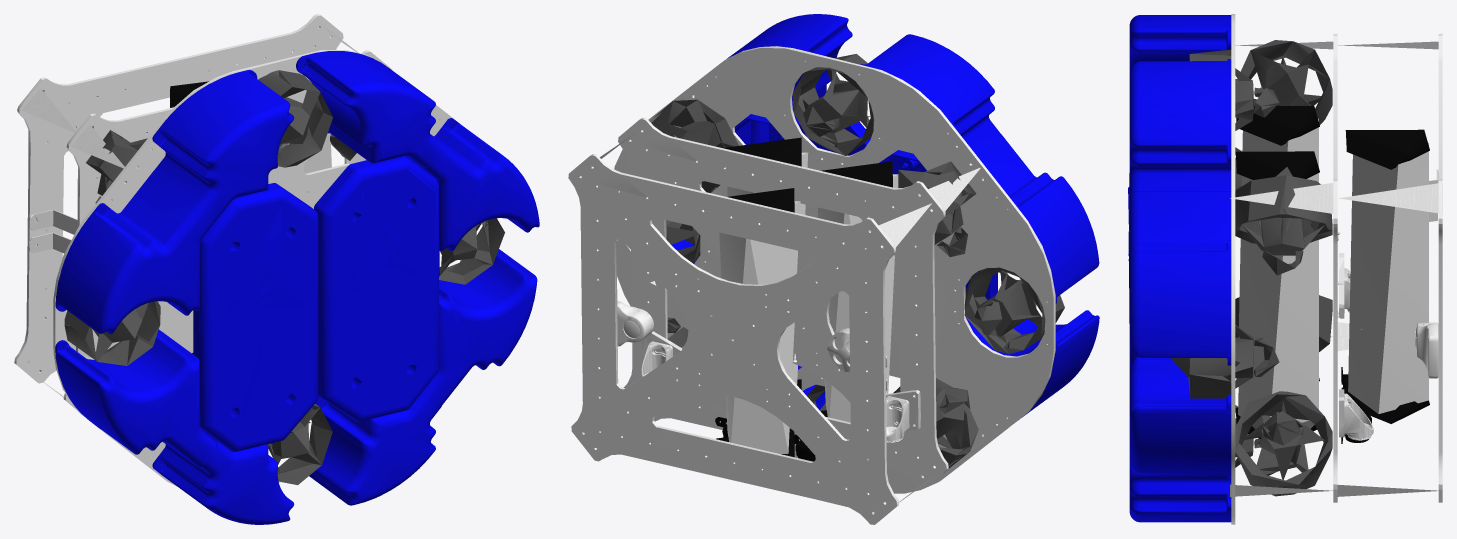
The model's file is cirtesub_v2_alpha.glb.
3 views of the same model, side by side, from view 1: azimuth 30°, elevation 25°; view 2: azimuth 150°, elevation 25°; view 3: azimuth 270°, elevation 25° (orthographic). The views are drawn at different scales.
Visible parts, largest first — view 1: Part 1.005, Part 1-Mirrored-Mirrored.002, Part_1.020, Part_2.001, Part 2-Mirrored-Mirrored.002, Part_1-Mirrored.003, Part_2-Mirrored.003, Part 2-Mirrored.005, Part 1-Mirrored.007, Part 2.005, Part 1.063, Part 2-Mirrored.007 (+36 smaller); view 2: Part 1.063, Part 1.059, Part 1.005, Part 1.044, Part 1.001, Part 1.004, Part 1-Mirrored-Mirrored.002, Cylinder.012, Part 2-Mirrored-Mirrored.002, duct_left_up_rear.011, duct_left_up_rear.014, Cylinder.007 (+25 smaller); view 3: Cylinder.012, Part 2-Mirrored.005, Part 1-Mirrored.005, Cylinder.006, Part 1.066, Part 1-Mirrored.003, duct_left_up_rear.005, duct_left_up_rear.009, Part 2.005, Part 1.003, duct_left_up_rear.013, Part 2-Mirrored-Mirrored.002 (+32 smaller).
Boxes of the visible parts, x1=… form: Part 1.005: x1=16, y1=14, x2=343, y2=371; Part 1-Mirrored-Mirrored.002: x1=55, y1=170, x2=217, y2=334; Part_1.020: x1=318, y1=281, x2=434, y2=415; Part_2.001: x1=314, y1=156, x2=439, y2=305; Part 2-Mirrored-Mirrored.002: x1=152, y1=70, x2=294, y2=217; Part_1-Mirrored.003: x1=193, y1=308, x2=318, y2=445; Part_2-Mirrored.003: x1=193, y1=183, x2=313, y2=334; Part 2-Mirrored.005: x1=296, y1=51, x2=441, y2=167; Part 1-Mirrored.007: x1=55, y1=330, x2=216, y2=467; Part 2.005: x1=309, y1=395, x2=441, y2=505; Part 1.063: x1=53, y1=50, x2=458, y2=485; Part 2-Mirrored.007: x1=152, y1=427, x2=293, y2=524; Part 1.063: x1=614, y1=46, x2=1055, y2=493; Part 1.059: x1=568, y1=154, x2=898, y2=514; Part 1.005: x1=571, y1=154, x2=898, y2=524; Part 1.044: x1=618, y1=118, x2=948, y2=478; Part 1.001: x1=624, y1=117, x2=947, y2=488; Part 1.004: x1=615, y1=49, x2=1055, y2=460; Part 1-Mirrored-Mirrored.002: x1=970, y1=134, x2=1099, y2=303; Cylinder.012: x1=719, y1=201, x2=800, y2=453; Part 2-Mirrored-Mirrored.002: x1=861, y1=35, x2=1000, y2=162; duct_left_up_rear.011: x1=792, y1=54, x2=874, y2=155; duct_left_up_rear.014: x1=964, y1=267, x2=1060, y2=353; Cylinder.007: x1=817, y1=174, x2=898, y2=422; Cylinder.012: x1=1348, y1=142, x2=1428, y2=413; Part 2-Mirrored.005: x1=1129, y1=59, x2=1231, y2=194; Part 1-Mirrored.005: x1=1129, y1=191, x2=1231, y2=365; Cylinder.006: x1=1238, y1=166, x2=1318, y2=422; Part 1.066: x1=1129, y1=357, x2=1231, y2=478; Part 1-Mirrored.003: x1=1129, y1=240, x2=1231, y2=365; duct_left_up_rear.005: x1=1235, y1=167, x2=1332, y2=275; duct_left_up_rear.009: x1=1235, y1=391, x2=1332, y2=496; Part 2.005: x1=1129, y1=468, x2=1231, y2=522; Part 1.003: x1=1129, y1=357, x2=1231, y2=478; duct_left_up_rear.013: x1=1170, y1=325, x2=1279, y2=398; Part 2-Mirrored-Mirrored.002: x1=1129, y1=15, x2=1231, y2=73.
Size of the model in its own units: 0.79 by 0.7201 by 0.4588.
